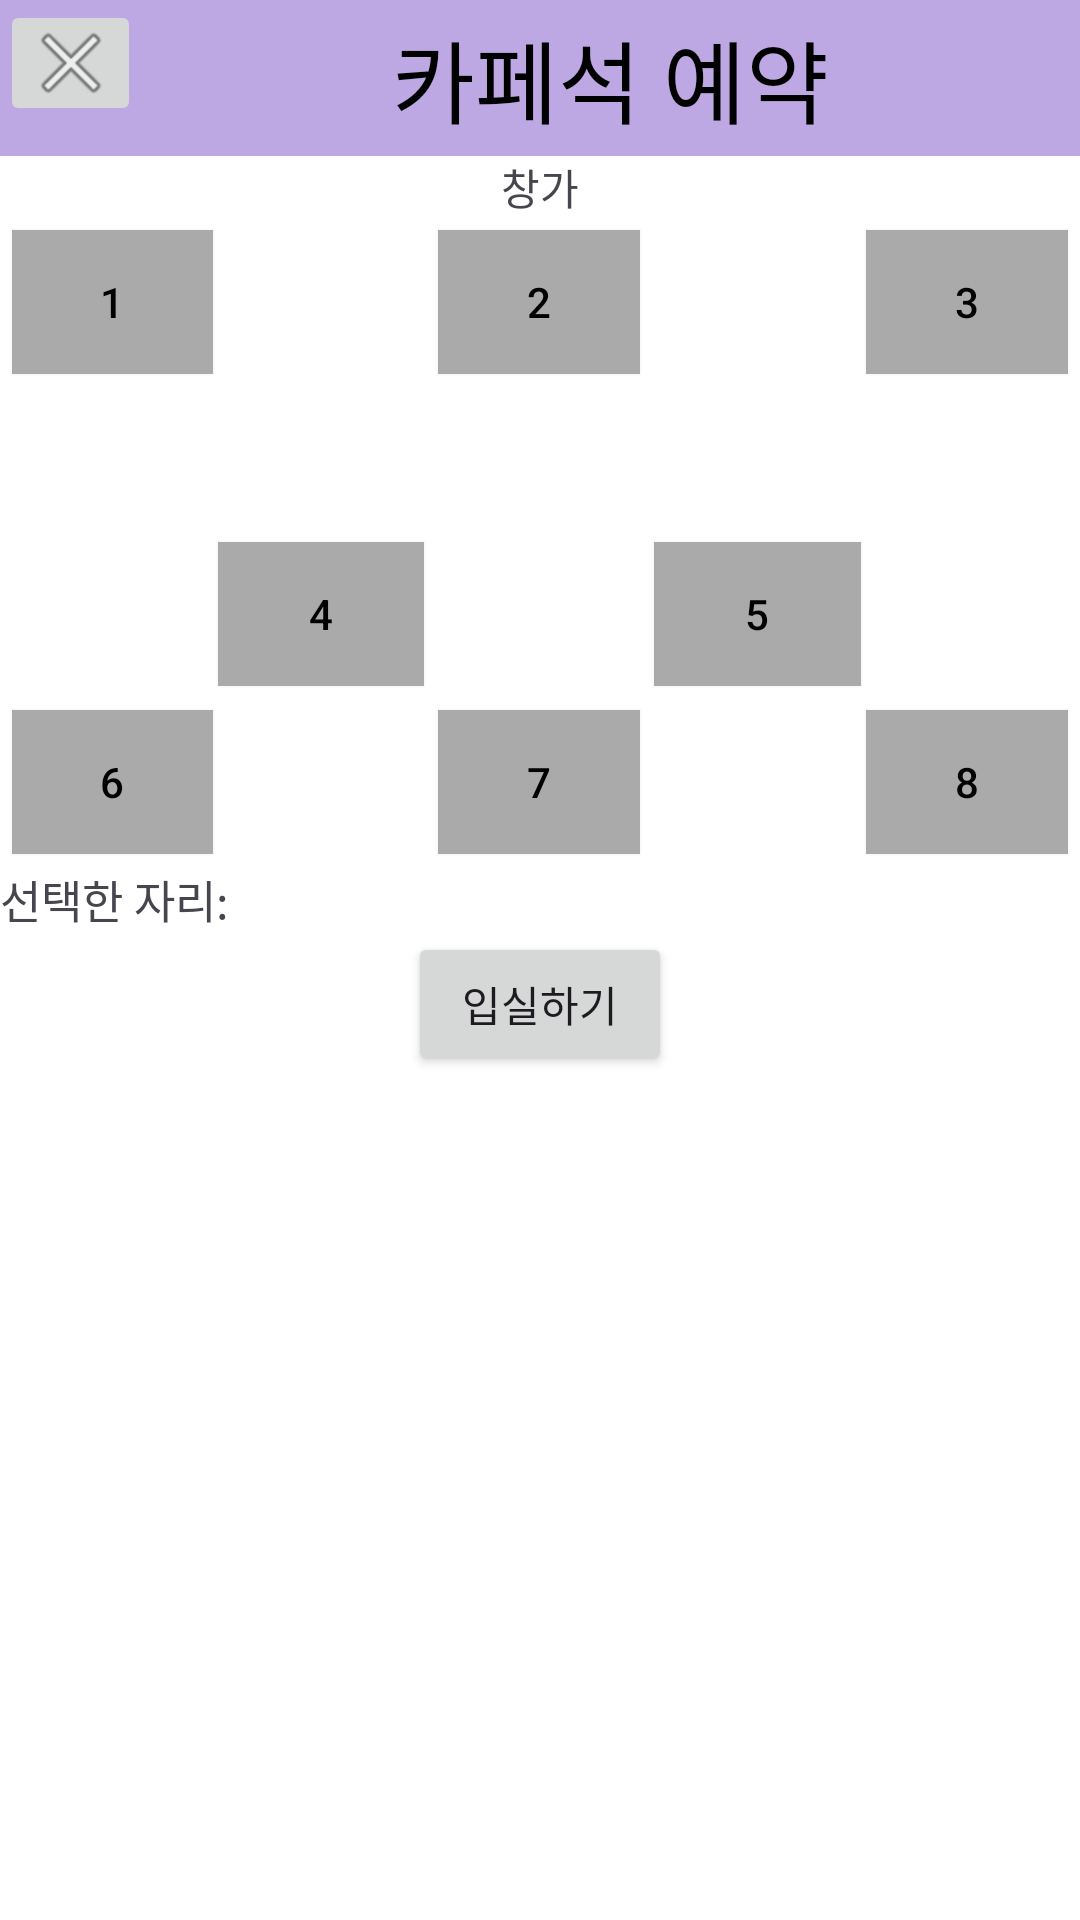

Point at icon controls on the screen. Image size 1080*1920, points as (x=x, y=y).
close clear cancel: (x=70, y=63)
